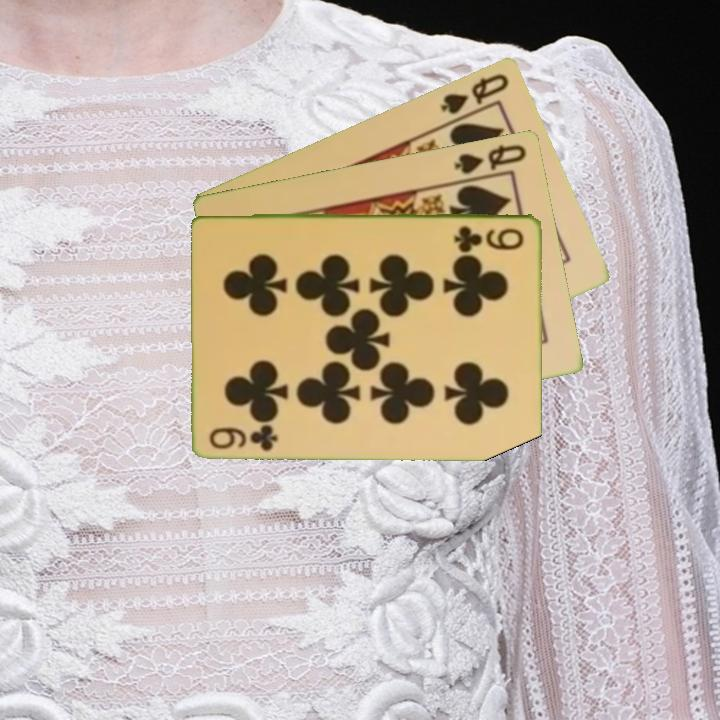9c: (206, 420, 281, 453), (452, 222, 527, 251)
Qs: (437, 69, 512, 117), (451, 140, 529, 177)
